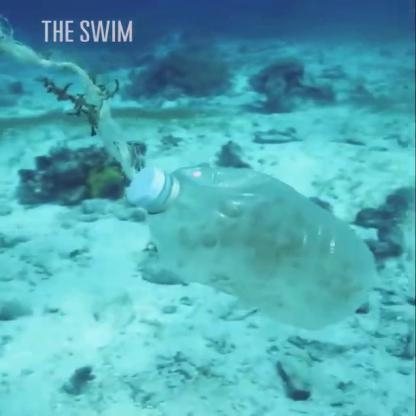Rác: (124, 155, 394, 327)
